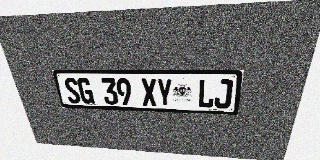3: (101, 78, 119, 105)
9: (115, 78, 133, 105)
G: (76, 78, 95, 104)
J: (214, 79, 233, 109)
L: (197, 79, 215, 108)
S: (63, 78, 82, 104)
X: (141, 78, 157, 106)
Y: (156, 79, 172, 107)
